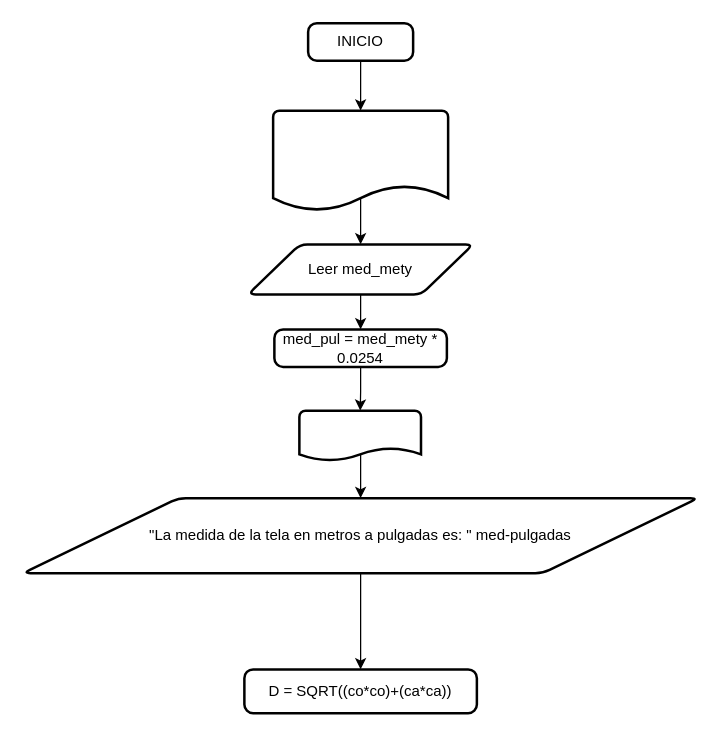
Some shapes in this 720 by 735 pixel diagram are drawn without their labels. Here are the shapes that lost their labels. From the top down, the centre of each, then its label:
the point at 360,160: Insertar medidas en metros (med_met)
the point at 360,435: Imprimir med_put
